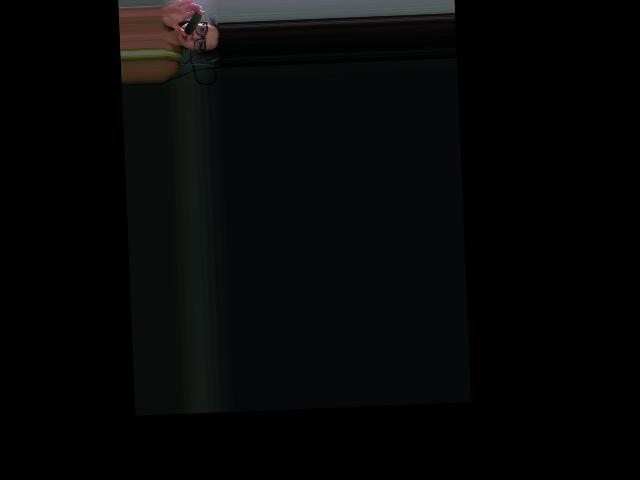cucumber: (183, 12, 203, 35)
